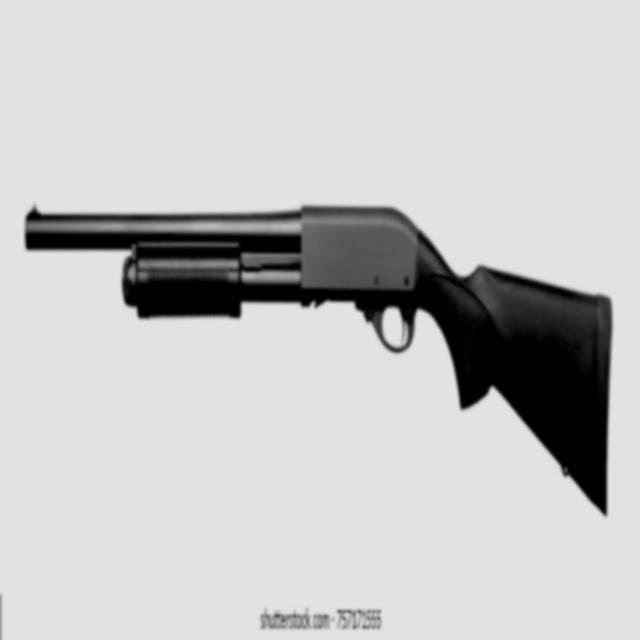shotgun: (20, 168, 618, 546)
